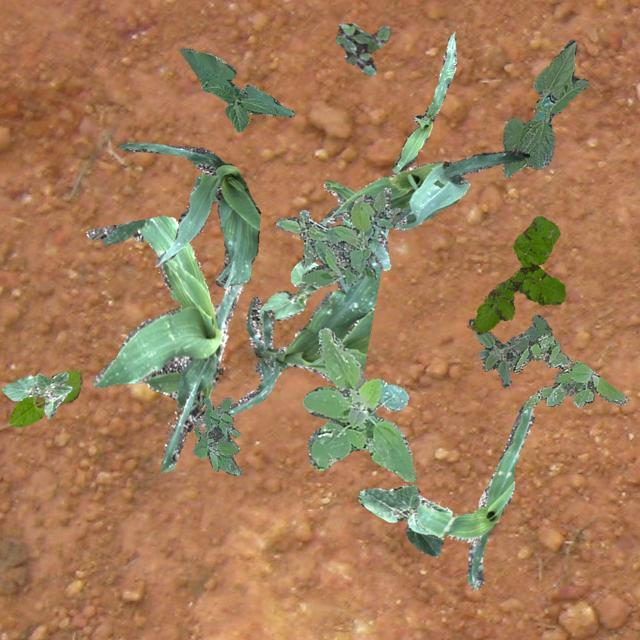crop: (85, 214, 242, 470), (195, 227, 388, 426), (318, 148, 528, 282), (414, 407, 534, 588), (118, 142, 260, 288), (502, 39, 588, 178), (178, 46, 294, 130), (392, 32, 456, 172), (356, 484, 452, 556), (8, 368, 82, 426), (258, 260, 322, 324), (0, 370, 70, 418)
weed: (302, 326, 416, 480), (274, 186, 402, 284), (469, 214, 564, 334), (512, 334, 628, 414), (468, 314, 560, 386), (192, 396, 242, 474), (334, 21, 390, 76)
